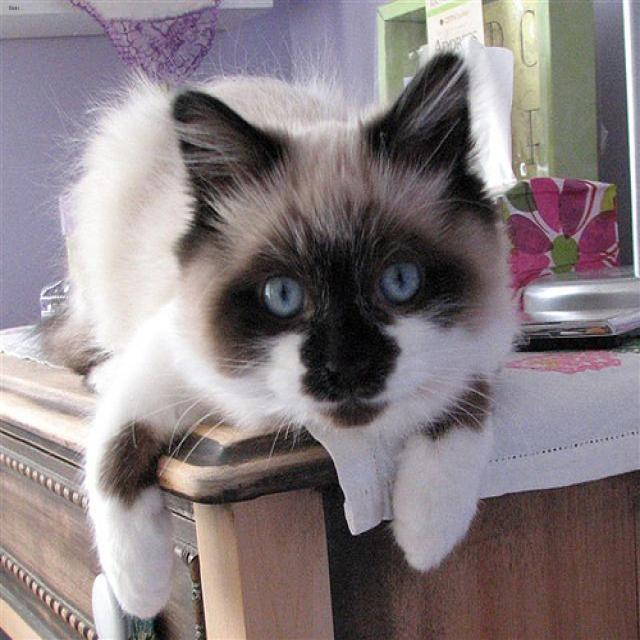cat: (171, 50, 466, 429)
